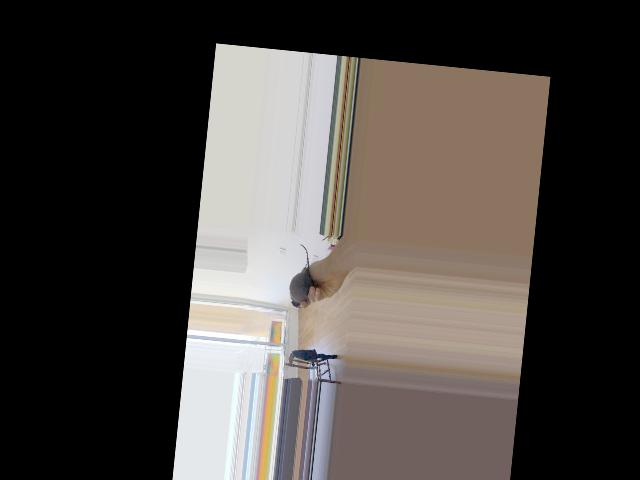beet: (288, 244, 315, 309)
